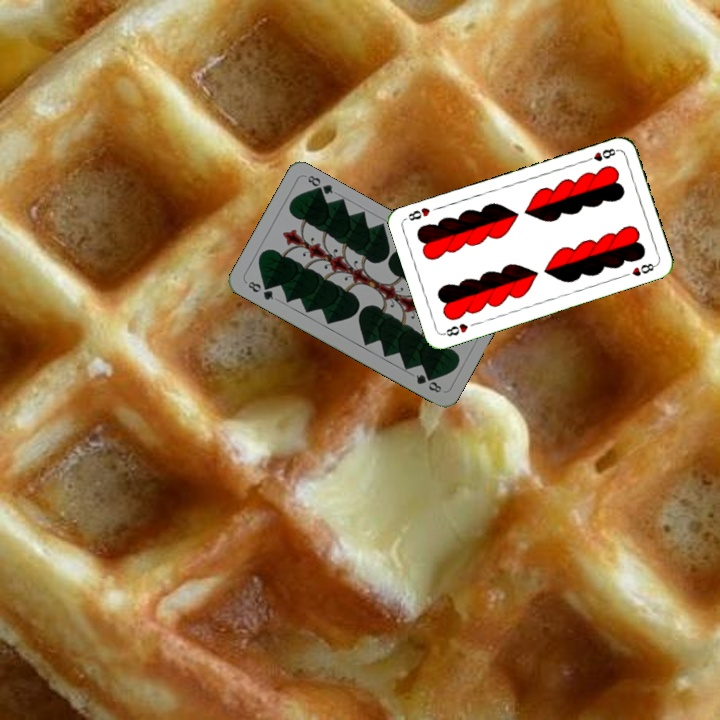G8: (243, 277, 276, 303)
H8: (581, 144, 621, 165), (439, 319, 471, 339)
